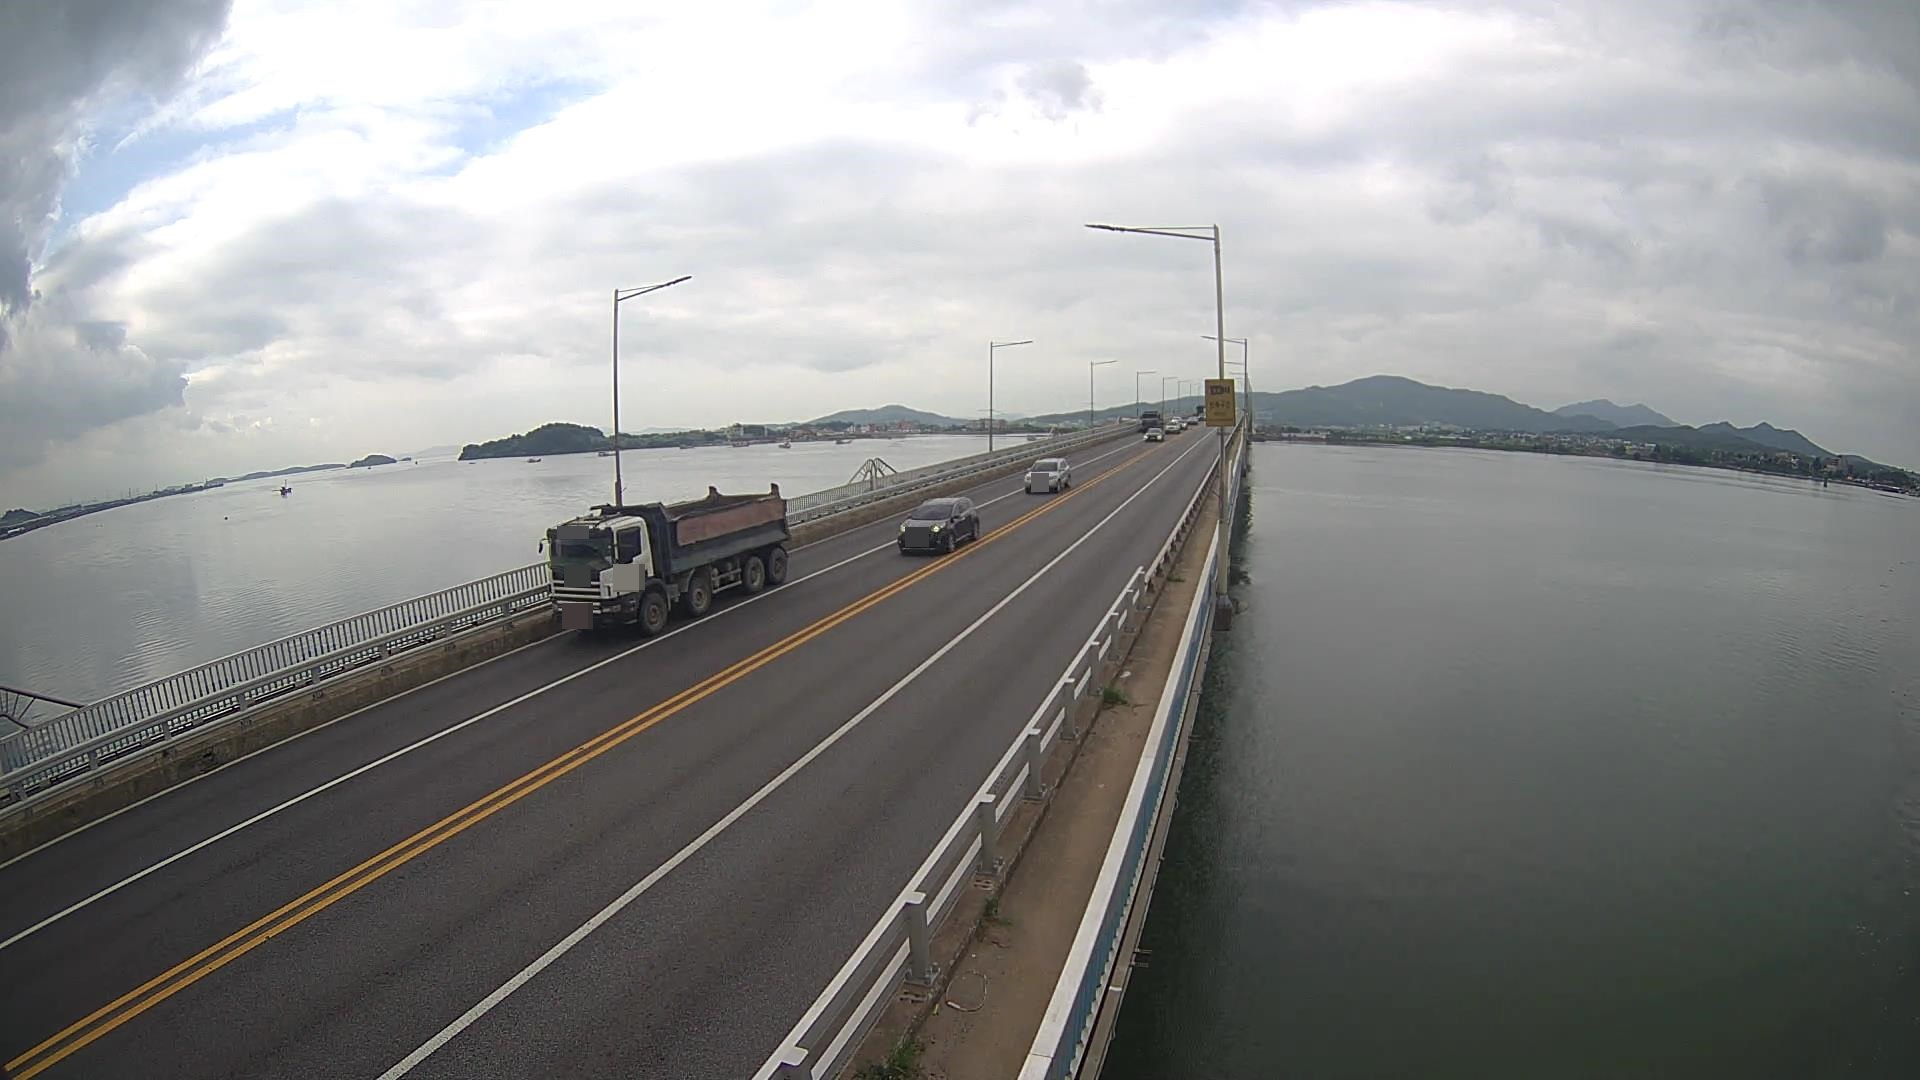정상차량: (538, 483, 789, 638)
